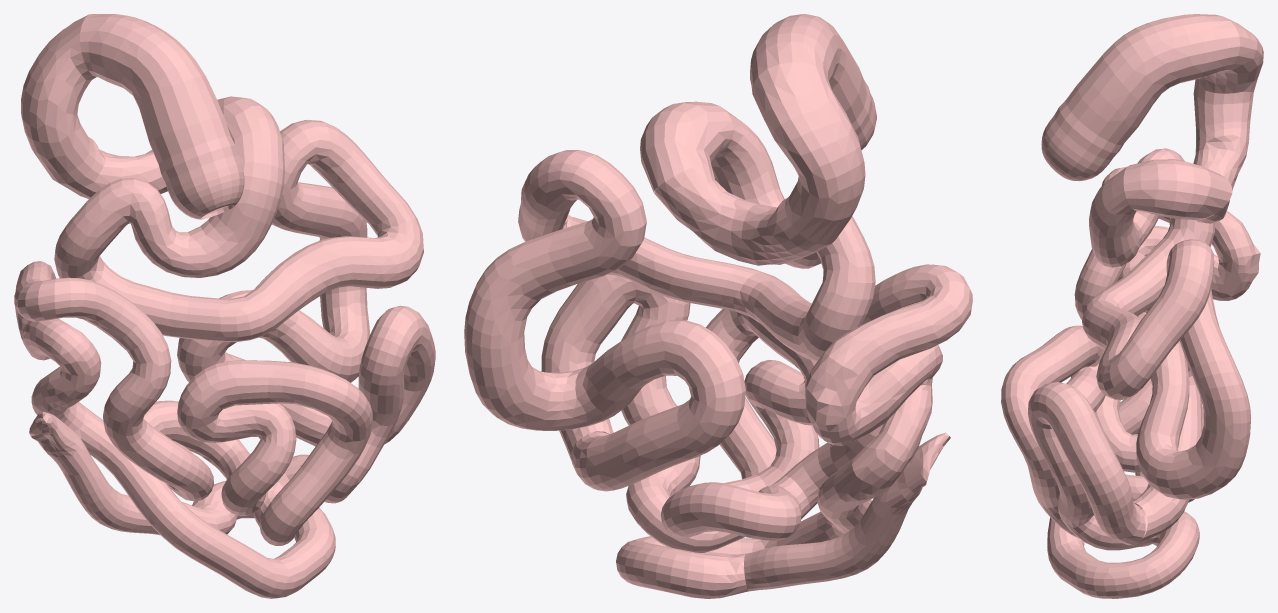
File: VH_F_Small_Intestine_0.6.glb
3 views of the same model, side by side, from view 1: azimuth 30°, elevation 25°; view 2: azimuth 150°, elevation 25°; view 3: azimuth 270°, elevation 25° (orthographic). The views are drawn at different scales.
Visible parts, largest first — view 1: VH_F_ileum, VH_F_jejenum, VH_F_duodenum_superior, VH_F_duodenum_descending, VH_F_ileum_terminal, VH_F_duodenal_ampulla, VH_F_duodenum_horizontal, VH_F_duodenum_ascending; view 2: VH_F_ileum, VH_F_jejenum, VH_F_duodenum_descending, VH_F_ileum_terminal, VH_F_duodenum_horizontal, VH_F_duodenum_superior, VH_F_duodenum_ascending; view 3: VH_F_jejenum, VH_F_ileum, VH_F_duodenum_superior, VH_F_duodenum_ascending, VH_F_duodenum_descending, VH_F_duodenal_ampulla, VH_F_duodenum_horizontal.
Boxes of the visible parts, box(x1,y1,x2,y2) form: VH_F_ileum: box(14, 261, 435, 598); VH_F_jejenum: box(54, 120, 423, 446); VH_F_duodenum_superior: box(80, 14, 234, 173); VH_F_duodenum_descending: box(21, 14, 96, 183); VH_F_ileum_terminal: box(29, 411, 217, 535); VH_F_duodenal_ampulla: box(161, 145, 244, 219); VH_F_duodenum_horizontal: box(59, 137, 167, 198); VH_F_duodenum_ascending: box(217, 96, 281, 140); VH_F_ileum: box(541, 264, 972, 598); VH_F_jejenum: box(464, 107, 875, 491); VH_F_duodenum_descending: box(752, 62, 865, 245); VH_F_ileum_terminal: box(744, 432, 950, 591); VH_F_duodenum_horizontal: box(654, 163, 830, 265); VH_F_duodenum_superior: box(750, 14, 870, 130); VH_F_duodenum_ascending: box(640, 101, 733, 193); VH_F_jejenum: box(1082, 148, 1250, 544); VH_F_ileum: box(1001, 167, 1260, 598); VH_F_duodenum_superior: box(1059, 14, 1240, 152); VH_F_duodenum_ascending: box(1123, 159, 1232, 219); VH_F_duodenum_descending: box(1193, 17, 1263, 142); VH_F_duodenal_ampulla: box(1041, 108, 1118, 181); VH_F_duodenum_horizontal: box(1193, 128, 1249, 223).
Size of the model in its own units: 0.1616 by 0.2172 by 0.1.
